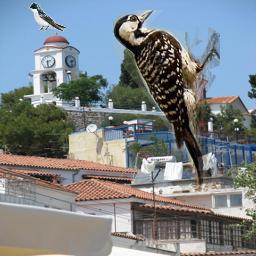Swallow: (28, 2, 67, 32)
Woodpecker: (113, 10, 220, 190)
